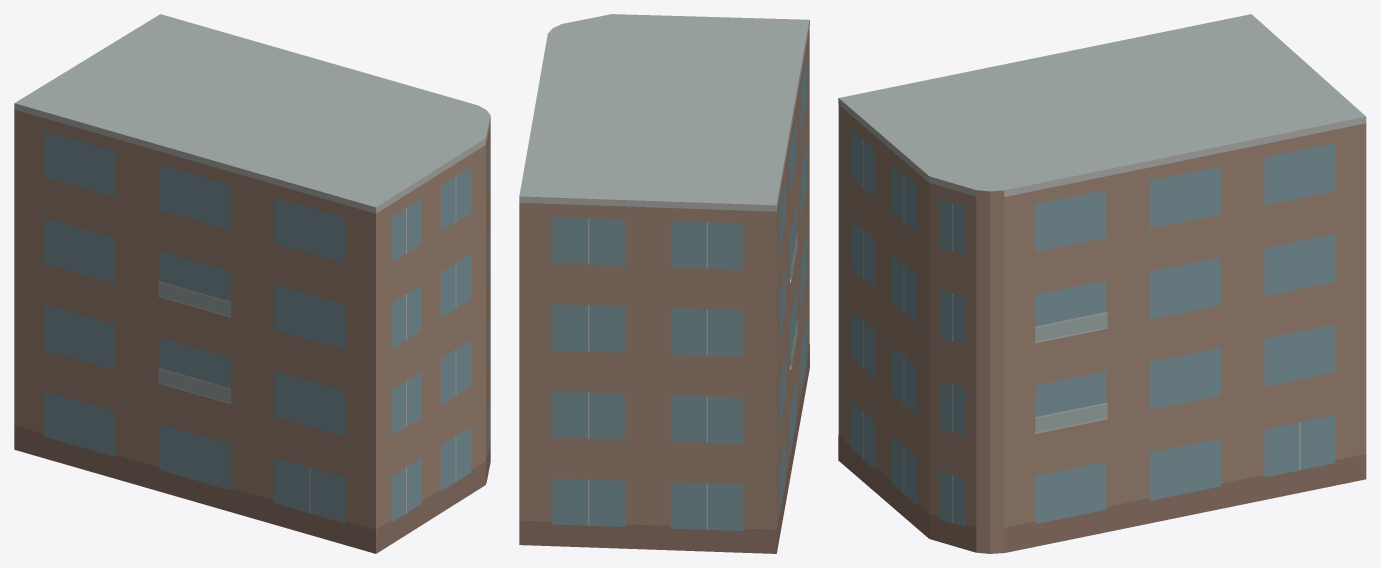
File: survey-upis-32911149.glb
3 renders of one model, left to right at view 1: azimuth 30°, elevation 25°; view 2: azimuth 150°, elevation 25°; view 3: azimuth 270°, elevation 25°, orthographic. The views are drawn at different scales.
Visible parts, largest first — view 1: survey-upis-32911149.tmp; view 2: survey-upis-32911149.tmp; view 3: survey-upis-32911149.tmp.
Part boxes in pixels (x1,y1,x2,y2): survey-upis-32911149.tmp: (14, 14, 490, 553); survey-upis-32911149.tmp: (519, 14, 809, 553); survey-upis-32911149.tmp: (838, 14, 1366, 553).
Size of the model in its own units: 14.06 by 13.4 by 17.69.
